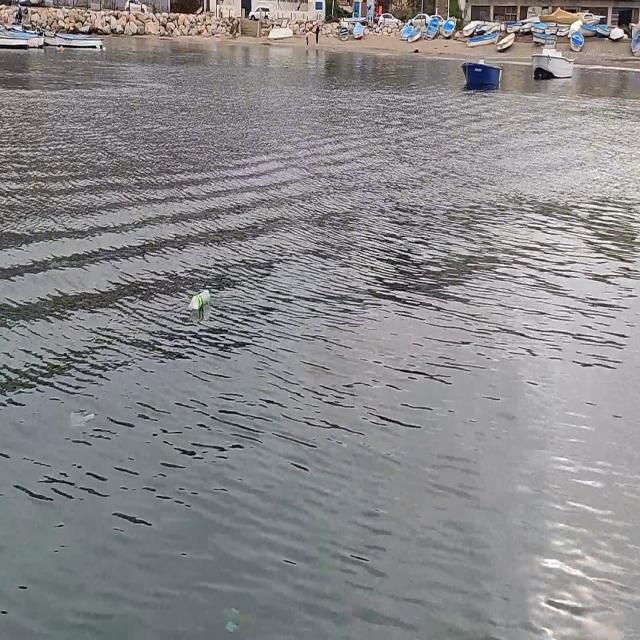Plastic: (68, 404, 95, 430)
Plastic bottle: (187, 288, 211, 312)
